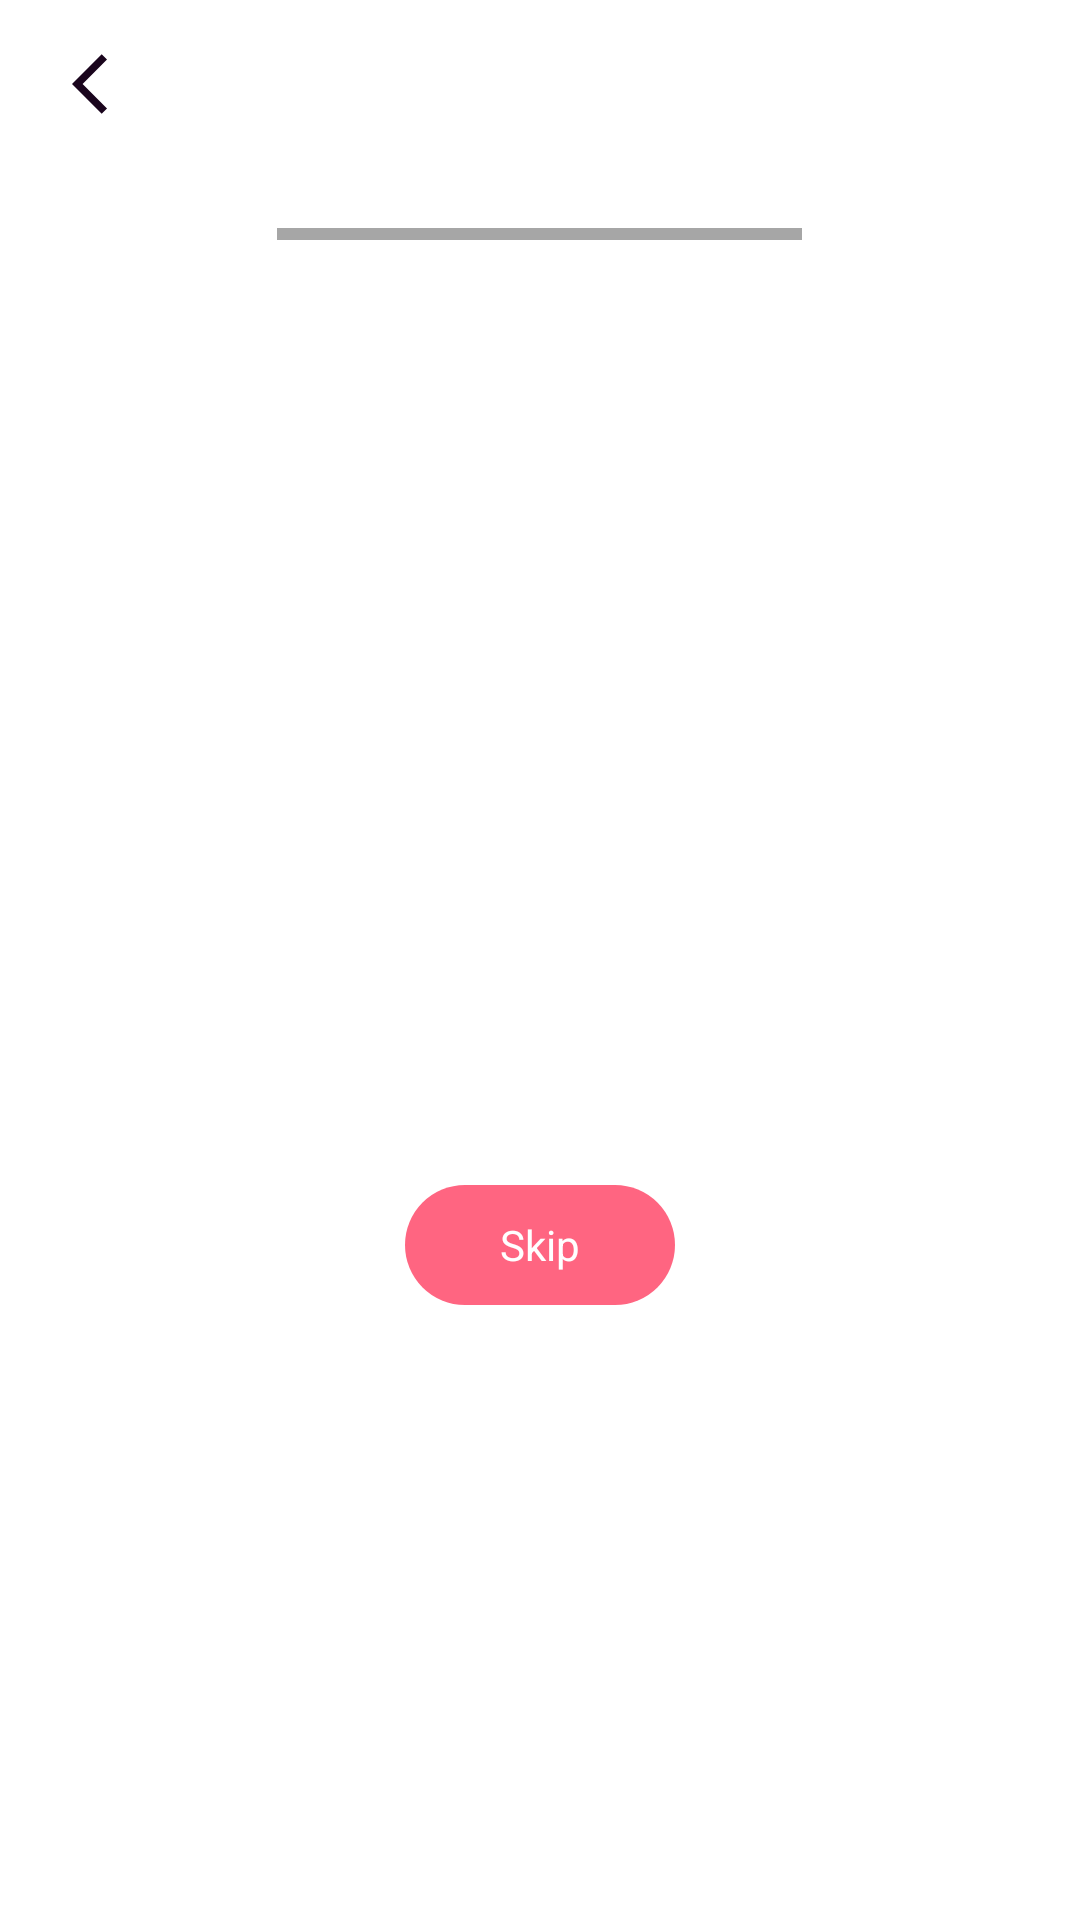

Screen size 1080x1920. Icon name, then its center in pixels as [x,y]:
back: [89,84]
